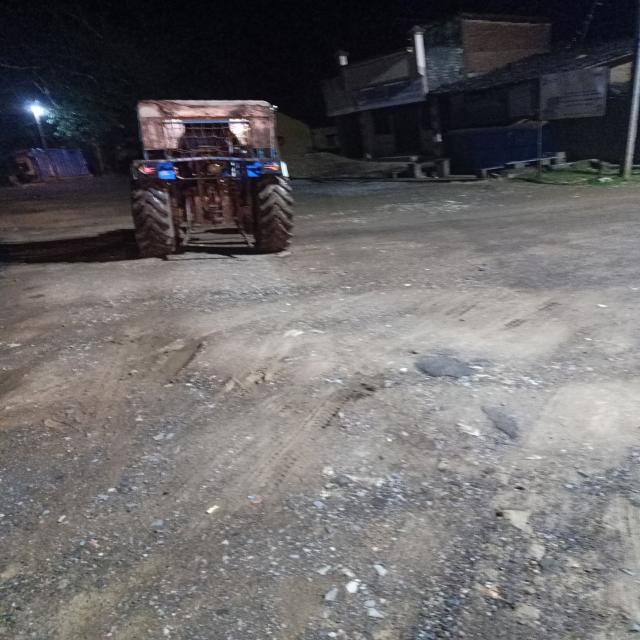tractor: (116, 91, 318, 271)
